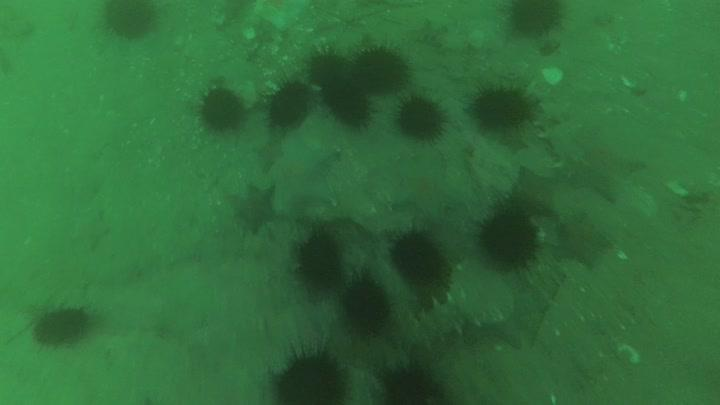urchin: (269, 343, 343, 405), (476, 202, 538, 266), (386, 228, 442, 284), (393, 93, 450, 146), (32, 299, 92, 349), (470, 81, 530, 131), (351, 43, 408, 95), (339, 277, 389, 335), (195, 85, 252, 135), (293, 227, 340, 284), (326, 78, 373, 129), (100, 1, 157, 41), (267, 79, 312, 129), (506, 2, 565, 39), (307, 46, 349, 81)
